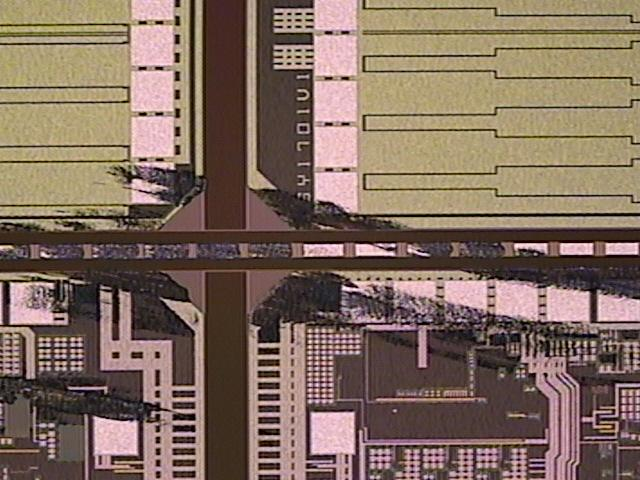SCRATCH: (1, 160, 640, 436)
